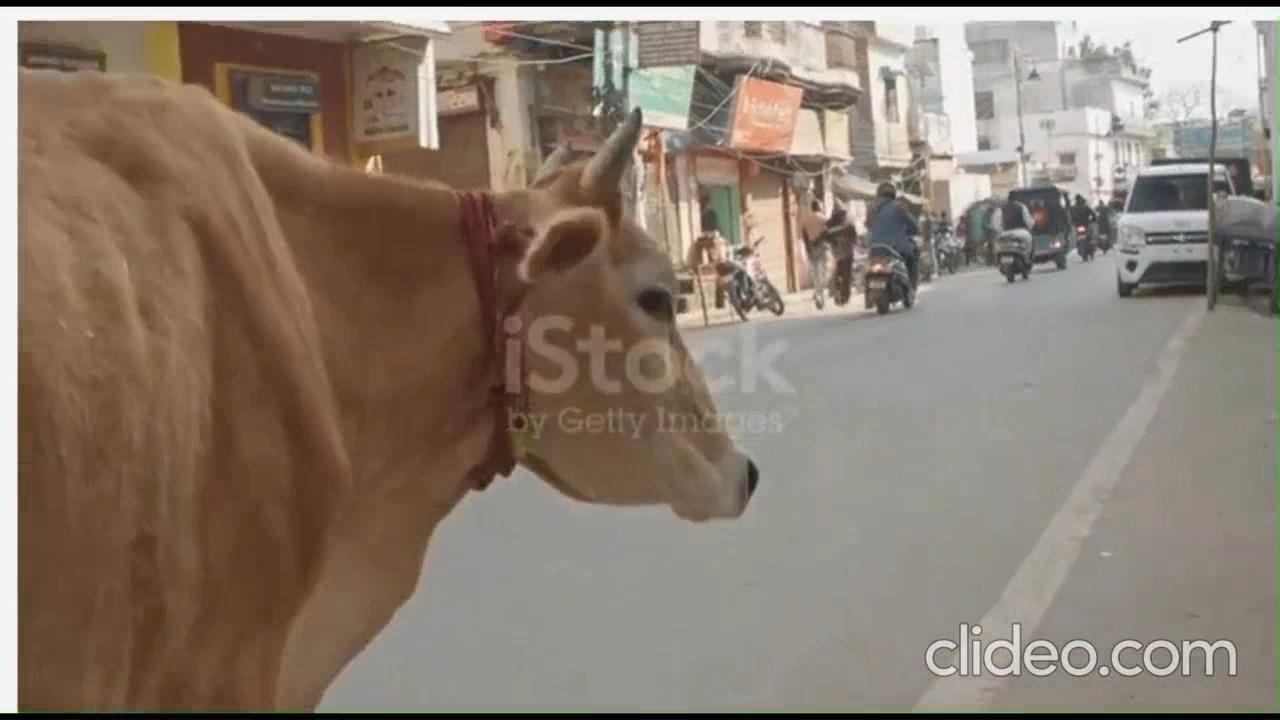Cow: (13, 61, 759, 705)
